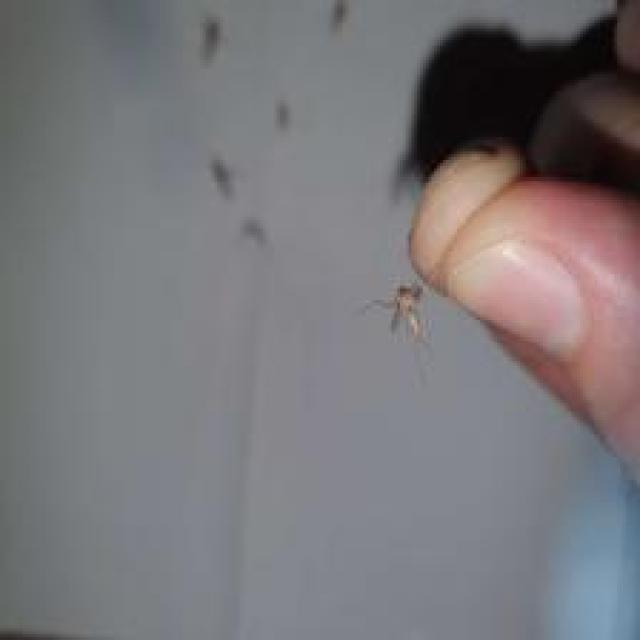Culex: (366, 277, 428, 343)
